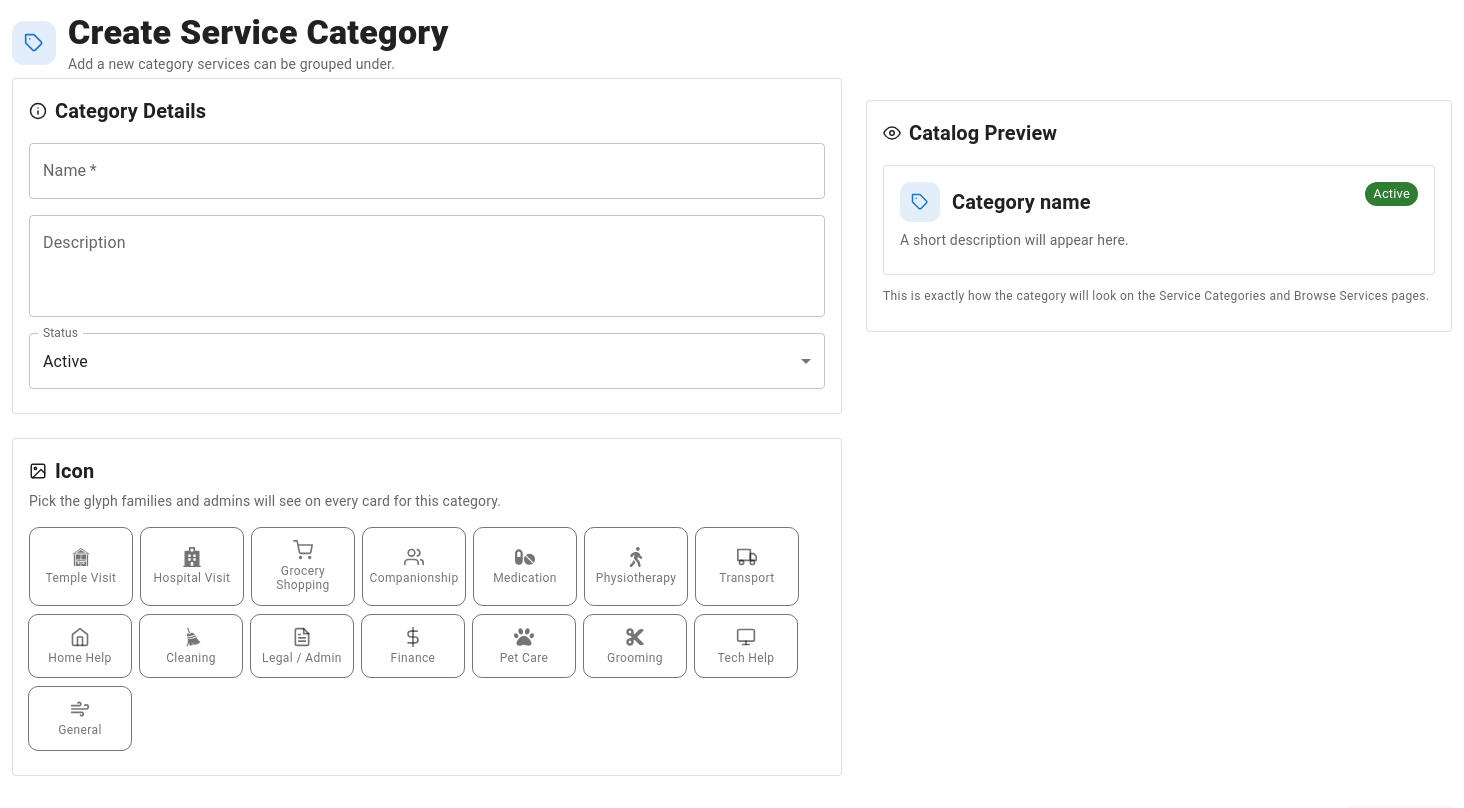
Test: ServiceCategoryForm › shows a Yup validation error once the Name field is blurred empty
Click the field labelled "Name *" at (427, 171), box [29, 143, 825, 199]
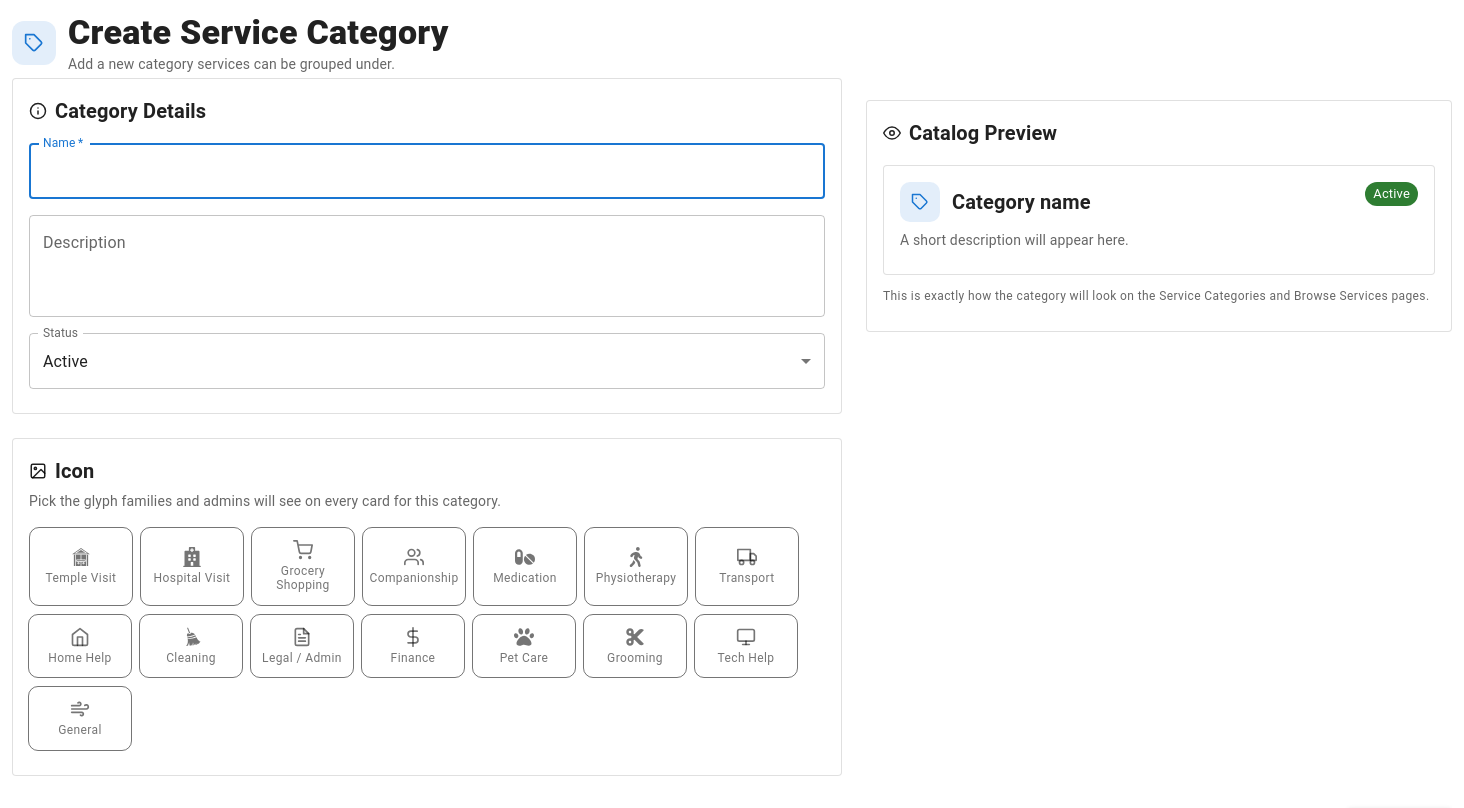
Press Tab
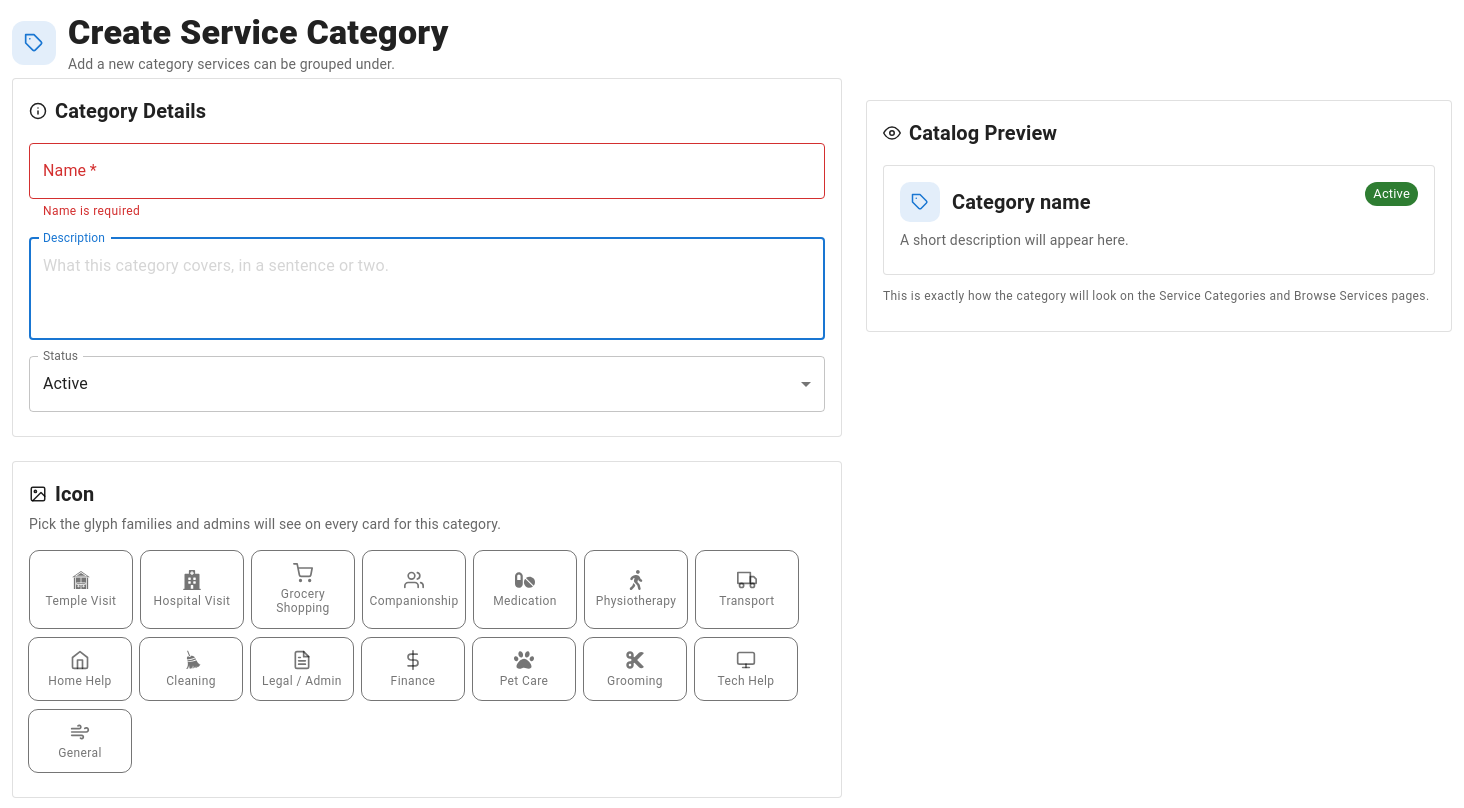
expect the text "Name is required" is shown: met, box [43, 204, 140, 218]
